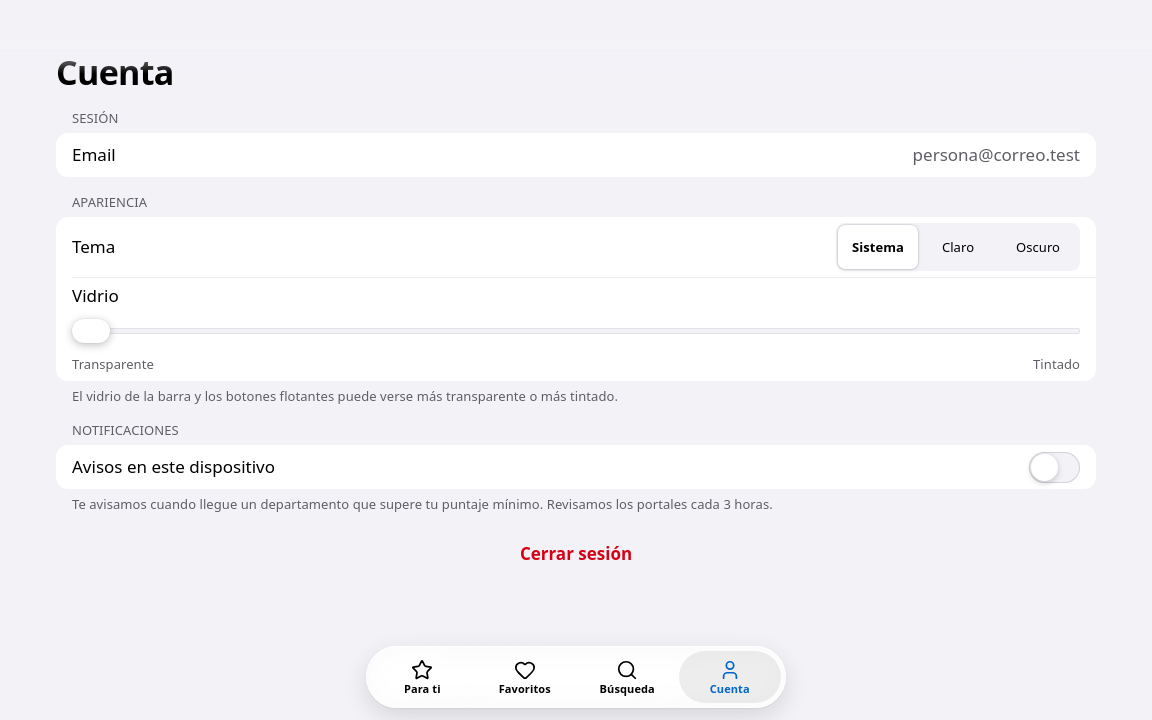
AccountPage › shows the account and returns to sign-in after signing out
The image size is (1152, 720).
expect the text "persona@correo.test" is shown: met, box [913,144,1080,166]
Click the button "Cerrar sesión" at coordinates (576, 554), box [56,529,1096,579]
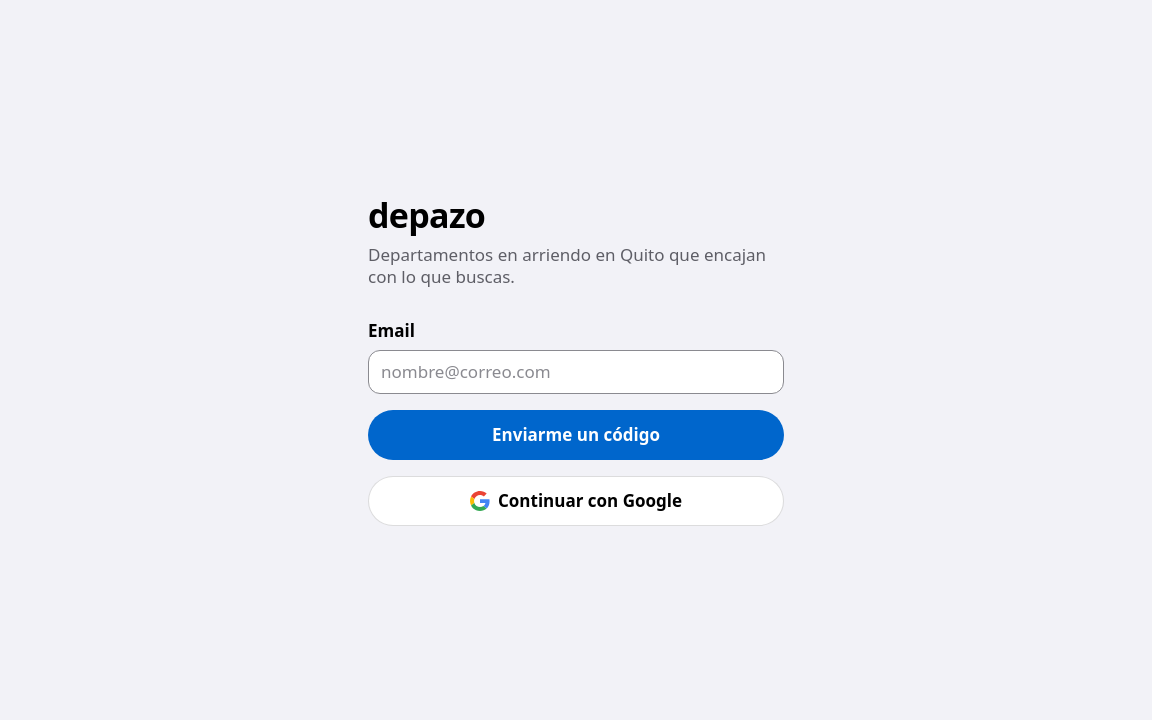
expect the button "Enviarme un código" is shown: met, box [368,410,784,460]
